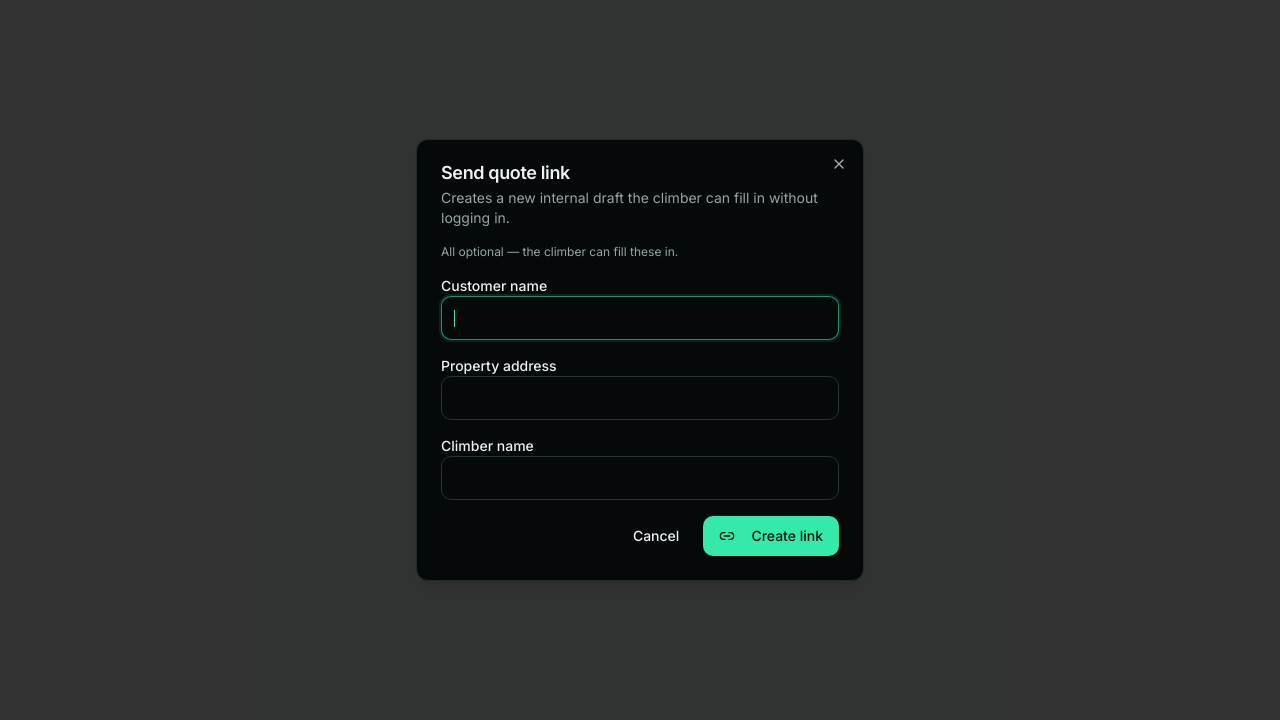
Test: send quote link dialog › creates a link with optional prefills and offers copy and text without sending anything
In the field labelled "Climber name": (640, 478) [441,456,839,500], type "Sam"
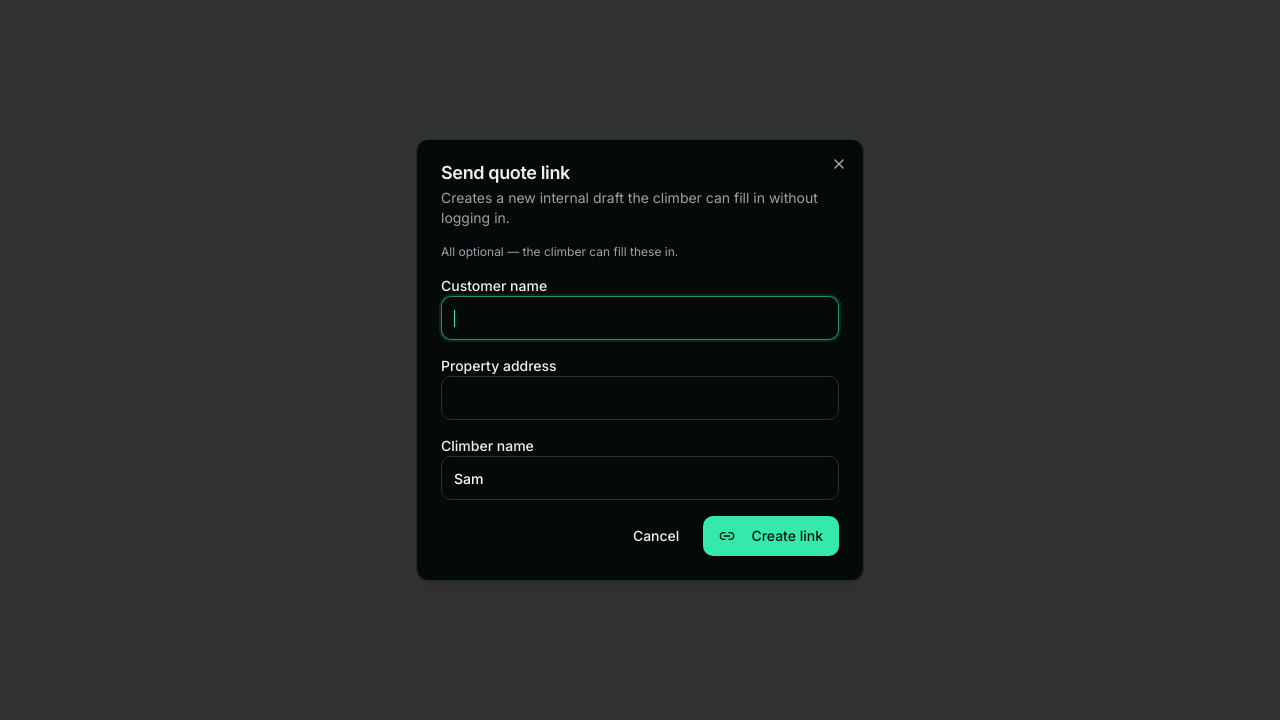
Click the button "Create link": (771, 536) [703,516,839,556]
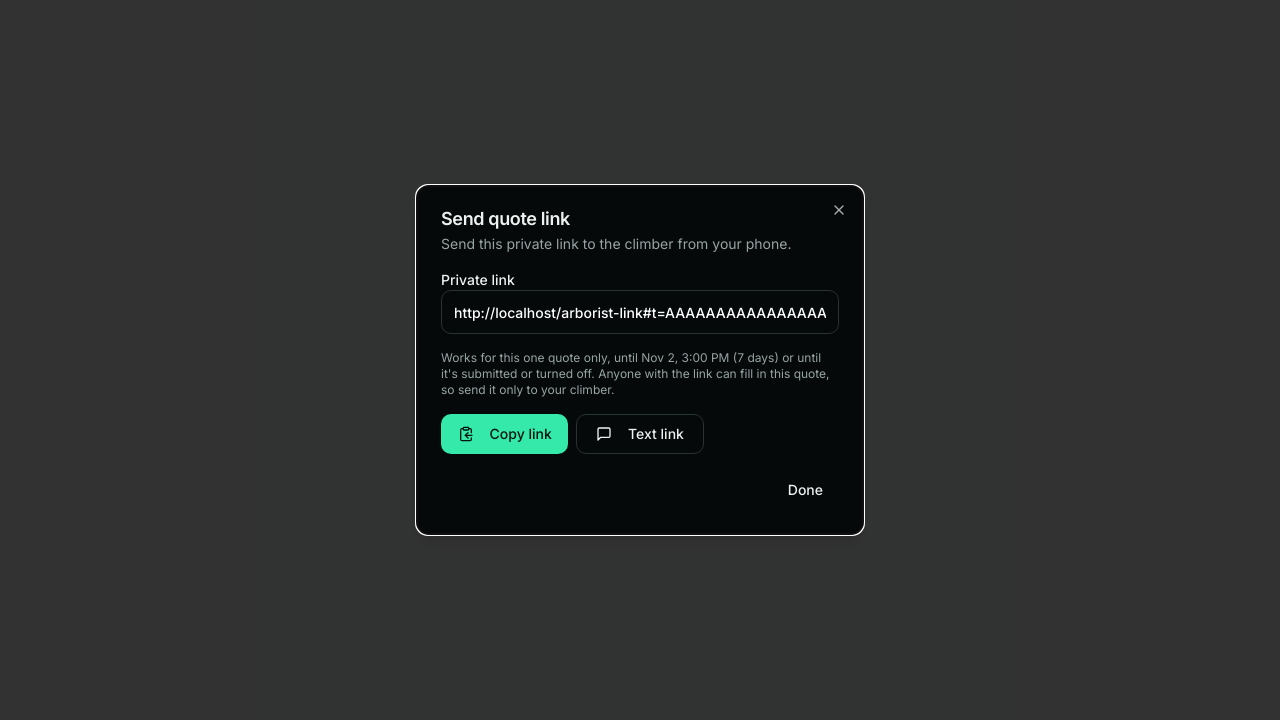
Expected: the button "Copy link" is shown, [441,414,568,454]
